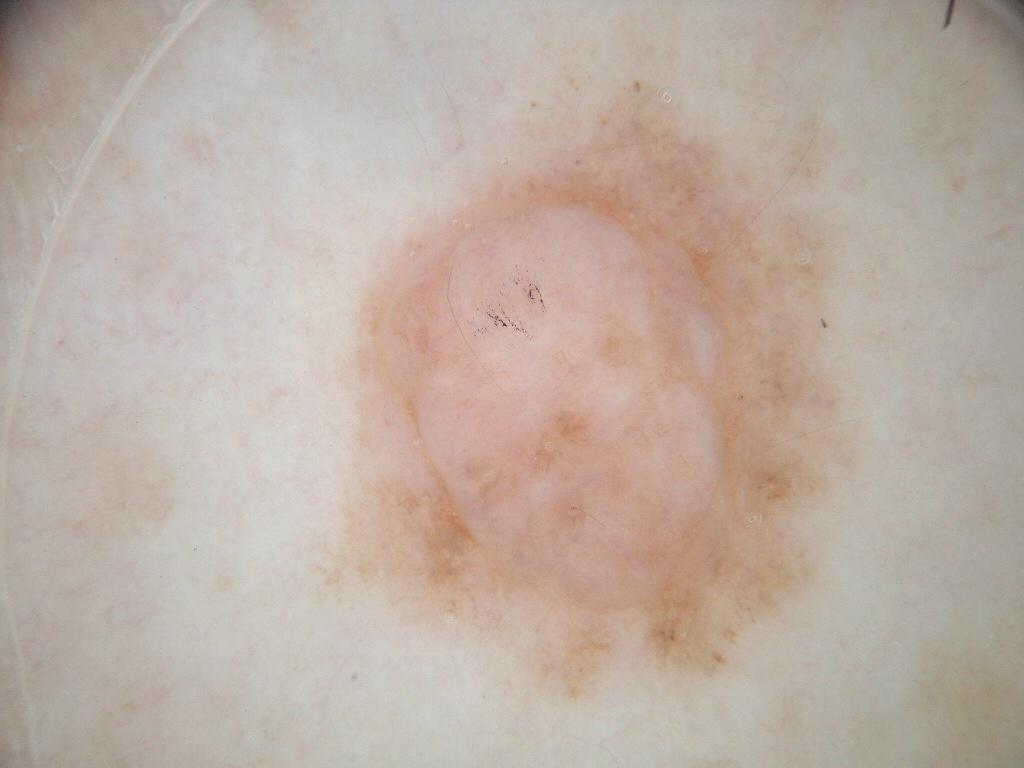Detected Lesion: (338, 91, 865, 677)
